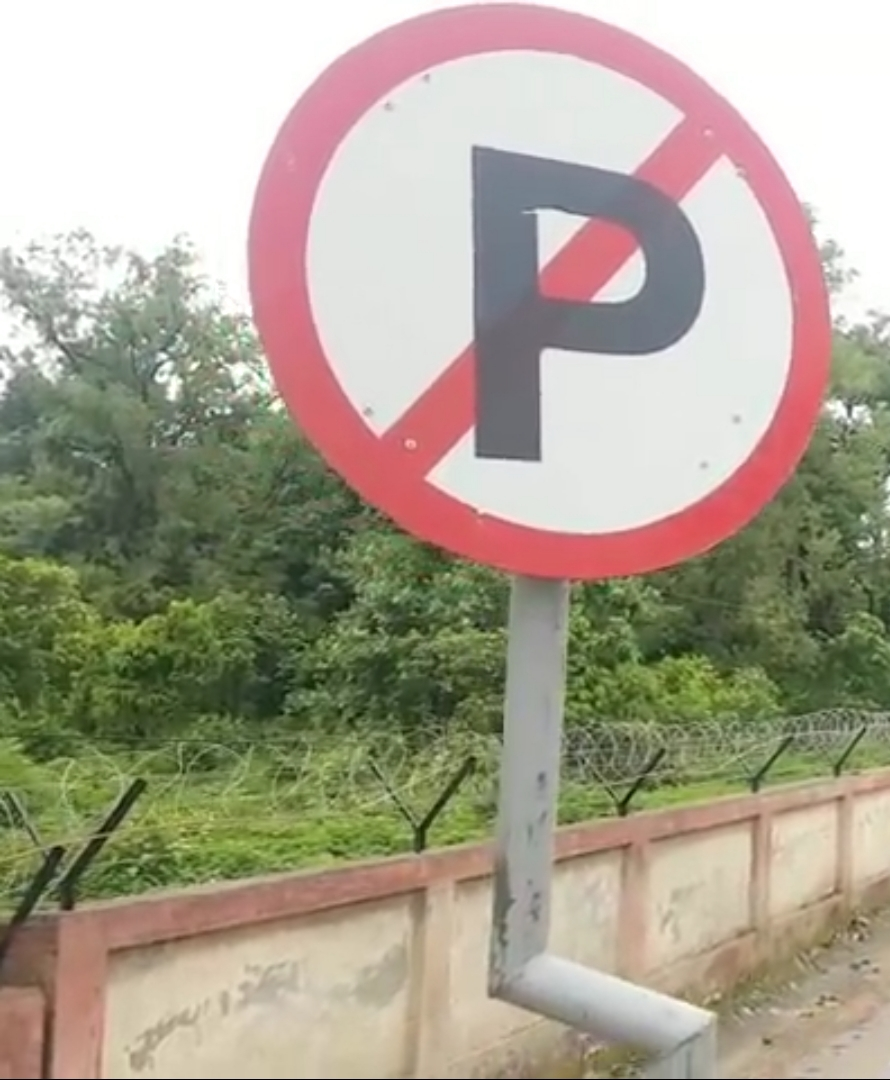traffic_sign: (245, 0, 834, 582)
